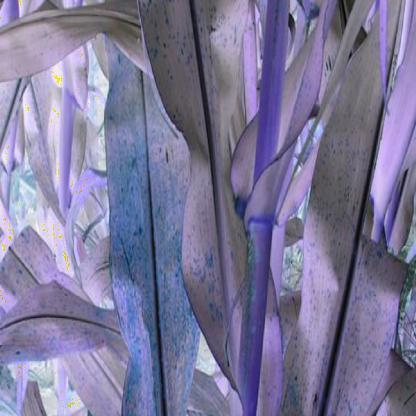Corn rust leaf: (137, 1, 287, 415), (94, 22, 201, 415)
